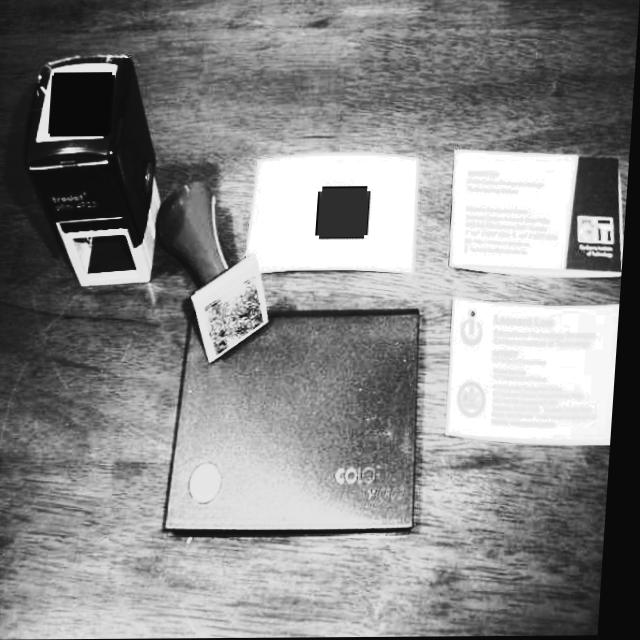qr_code: (51, 73, 114, 136), (320, 189, 372, 238)
